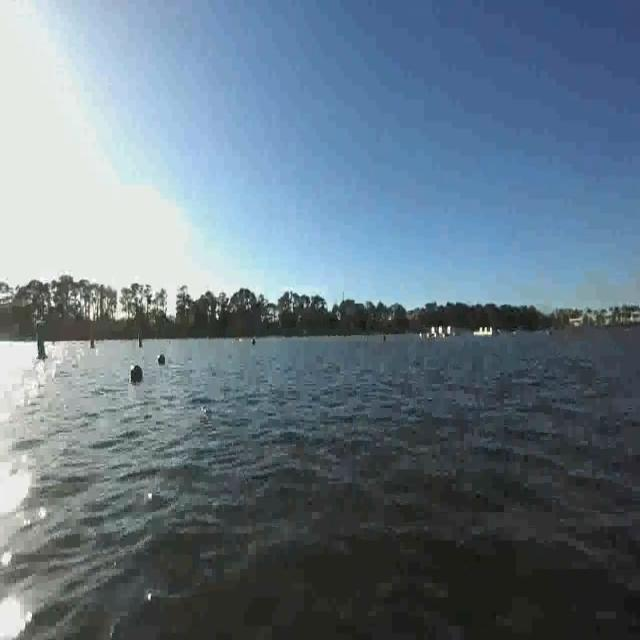black-buoy: (130, 366, 144, 383), (159, 352, 167, 366)
green-column-buoy: (34, 319, 48, 361), (138, 330, 144, 350)
